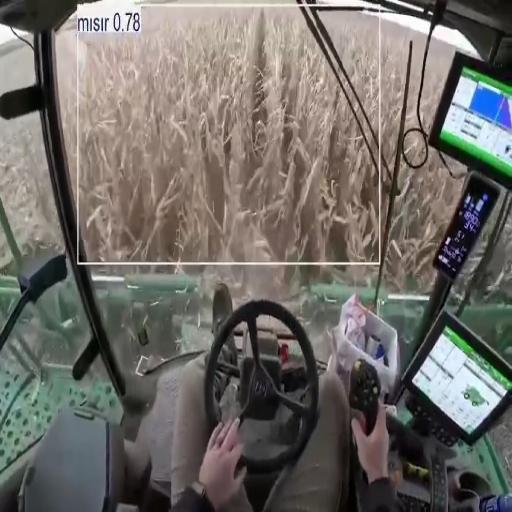misir: (59, 9, 377, 260)
